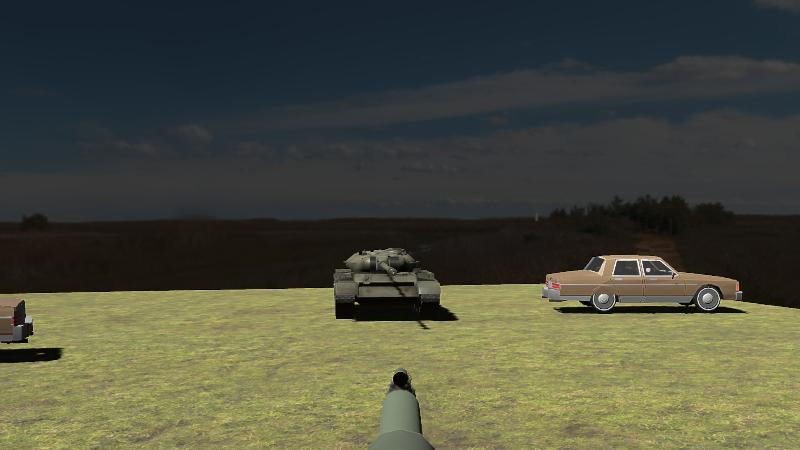Tank: (332, 245, 441, 322)
car: (542, 254, 744, 315), (0, 280, 34, 366)
